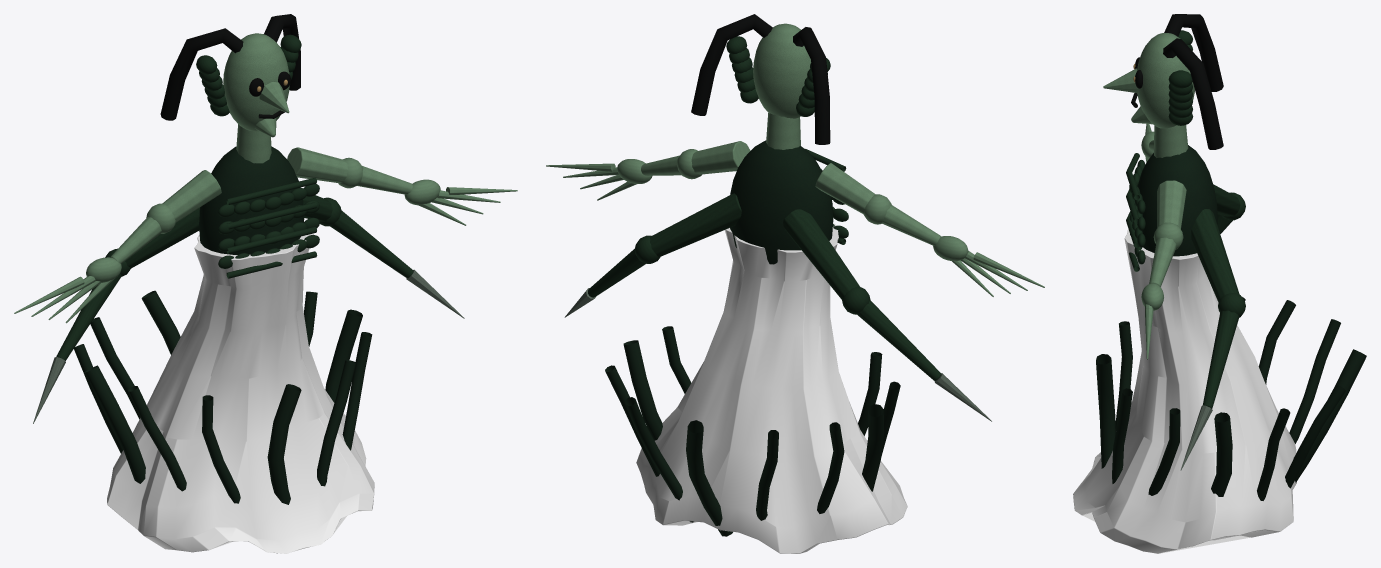
The model's file is 01_BeldamCreature.fbx.
The picture shows the model from 3 angles, left to right: view 1: azimuth 30°, elevation 25°; view 2: azimuth 150°, elevation 25°; view 3: azimuth 270°, elevation 25°; orthographic projection. The views are drawn at different scales.
Visible parts, largest first — view 1: Beldam Ragged Gown.001, Narrow upper torso.001, Narrow face.001, Arched crown horn.002, Torn gown edge strip.021, Torn gown edge strip.018, Long skeletal upper arm R.001, Torn gown edge strip.022, Long skeletal upper arm L.001, Rear spider appendage lower R.001, Torn gown edge strip.012, Torn gown edge strip.019 (+16 smaller); view 2: Beldam Ragged Gown.001, Narrow upper torso.001, Narrow face.001, Rear spider appendage upper L.001, Rear spider appendage upper R.001, Arched crown horn.003, Arched crown horn.002, Torn gown edge strip.015, Rear spider appendage lower L.001, Torn gown edge strip.012, Long skeletal upper arm L.001, Long skeletal upper arm R.001 (+13 smaller); view 3: Beldam Ragged Gown.001, Narrow upper torso.001, Narrow face.001, Rear spider appendage upper R.001, Arched crown horn.003, Torn gown edge strip.021, Arched crown horn.002, Rear spider appendage lower R.001, Torn gown edge strip.016, Torn gown edge strip.012, Torn gown edge strip.015, Torn gown edge strip.014 (+14 smaller).
Boxes of the visible parts, x1=… form: Beldam Ragged Gown.001: x1=107, y1=233, x2=374, y2=553; Narrow upper torso.001: x1=199, y1=146, x2=304, y2=254; Narrow face.001: x1=223, y1=33, x2=289, y2=131; Arched crown horn.002: x1=160, y1=28, x2=243, y2=120; Torn gown edge strip.021: x1=267, y1=384, x2=301, y2=504; Torn gown edge strip.018: x1=84, y1=365, x2=145, y2=483; Long skeletal upper arm R.001: x1=287, y1=147, x2=348, y2=183; Torn gown edge strip.022: x1=317, y1=360, x2=356, y2=486; Long skeletal upper arm L.001: x1=162, y1=170, x2=221, y2=222; Rear spider appendage lower R.001: x1=330, y1=210, x2=413, y2=278; Torn gown edge strip.012: x1=325, y1=309, x2=362, y2=402; Torn gown edge strip.019: x1=128, y1=386, x2=186, y2=491; Beldam Ragged Gown.001: x1=636, y1=223, x2=907, y2=553; Narrow upper torso.001: x1=730, y1=140, x2=833, y2=264; Narrow face.001: x1=753, y1=23, x2=811, y2=118; Rear spider appendage upper L.001: x1=783, y1=209, x2=859, y2=299; Rear spider appendage upper R.001: x1=650, y1=193, x2=741, y2=256; Arched crown horn.003: x1=691, y1=14, x2=772, y2=115; Arched crown horn.002: x1=793, y1=27, x2=830, y2=144; Torn gown edge strip.015: x1=686, y1=420, x2=732, y2=536; Rear spider appendage lower L.001: x1=857, y1=300, x2=941, y2=380; Torn gown edge strip.012: x1=623, y1=340, x2=662, y2=440; Long skeletal upper arm L.001: x1=815, y1=163, x2=875, y2=214; Long skeletal upper arm R.001: x1=691, y1=141, x2=750, y2=174; Beldam Ragged Gown.001: x1=1073, y1=229, x2=1296, y2=553; Narrow upper torso.001: x1=1137, y1=145, x2=1217, y2=256; Narrow face.001: x1=1136, y1=33, x2=1194, y2=128; Rear spider appendage upper R.001: x1=1191, y1=209, x2=1239, y2=302; Arched crown horn.003: x1=1163, y1=38, x2=1223, y2=149; Torn gown edge strip.021: x1=1096, y1=354, x2=1115, y2=468; Arched crown horn.002: x1=1164, y1=14, x2=1223, y2=91; Rear spider appendage lower R.001: x1=1203, y1=310, x2=1239, y2=408; Torn gown edge strip.016: x1=1289, y1=319, x2=1340, y2=443; Torn gown edge strip.012: x1=1211, y1=412, x2=1232, y2=496; Torn gown edge strip.015: x1=1295, y1=349, x2=1366, y2=482; Torn gown edge strip.014: x1=1285, y1=385, x2=1345, y2=488.
Bounding box in the file's own units: 3.22 × 3.01 × 1.67.
7 materials, 6 textured.
